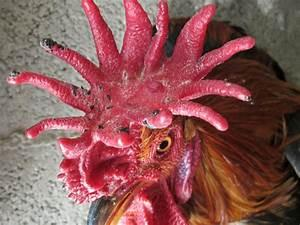hen: (6, 0, 299, 224)
